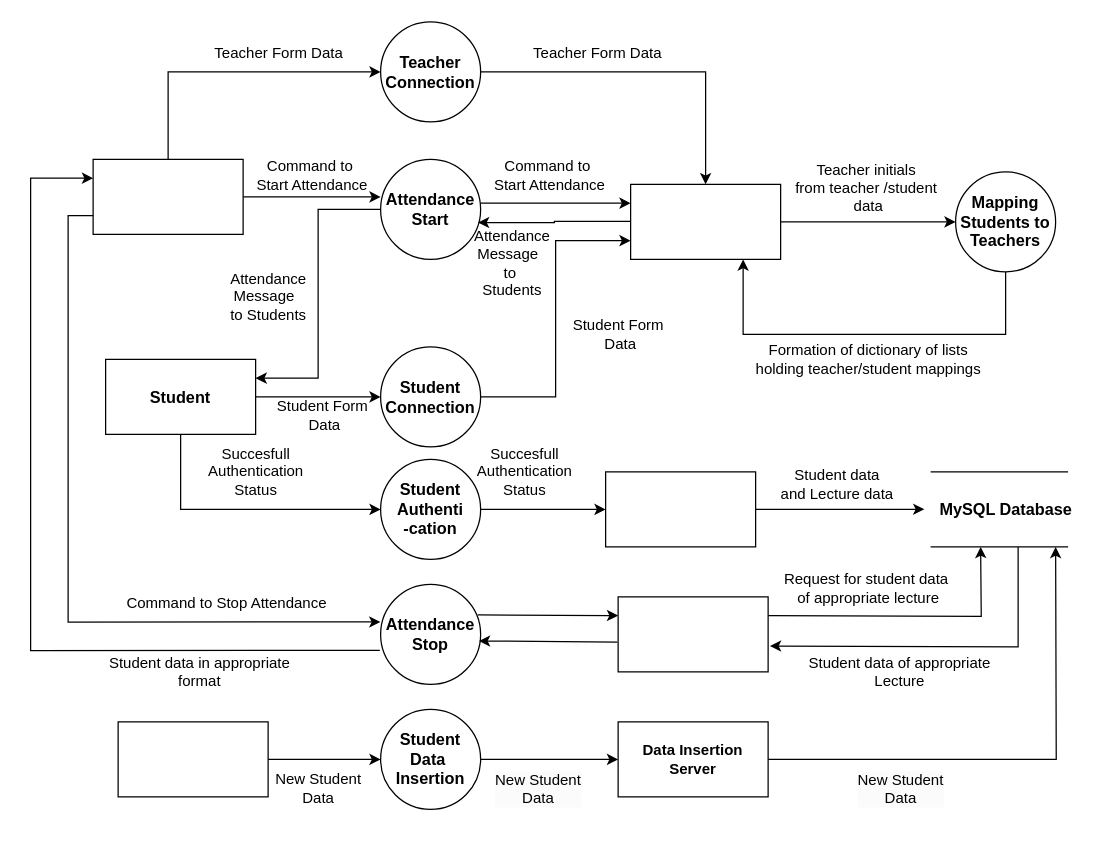
Image size: 1109x848. Some labels were removed from this diagram. The shapes that lost their labels are listed below. From the top down, each one's box as (x1, y1, x2, y2) in pixels, then its label:
(92, 158, 243, 234): Teacher
(629, 183, 781, 259): WebSocket Server
(604, 471, 756, 547): Validation Server
(617, 596, 768, 672): Report Generation Server
(117, 721, 268, 797): Admin
